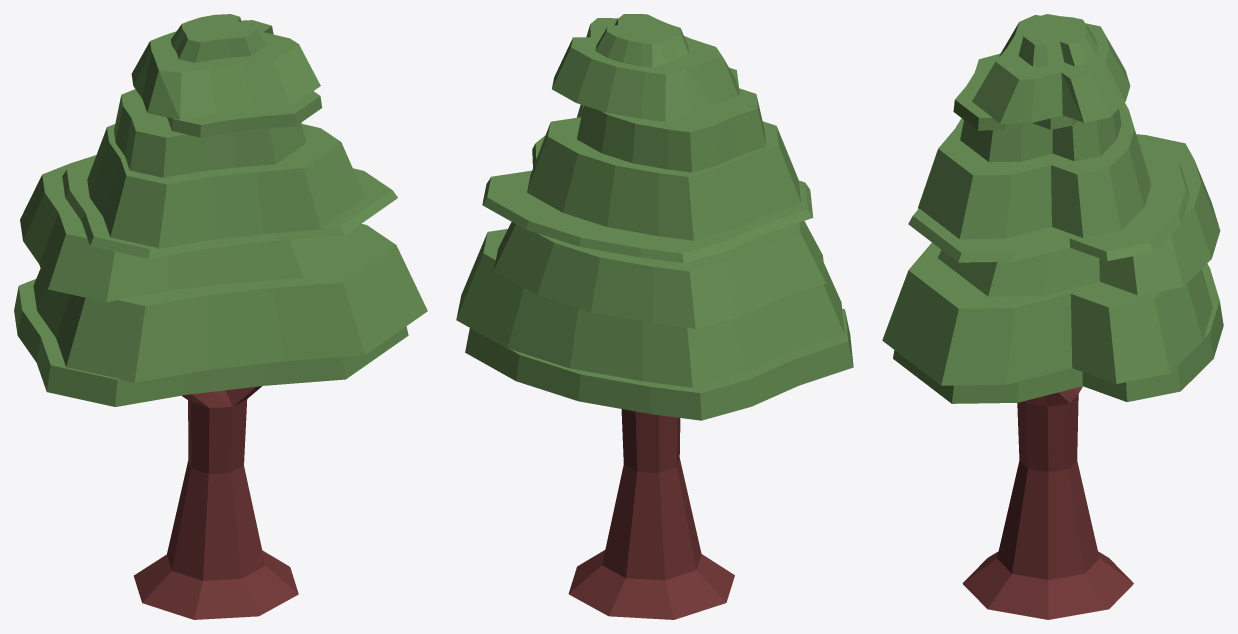
The model's file is tree1.gltf.
The picture shows the model from 3 angles, left to right: view 1: azimuth 30°, elevation 25°; view 2: azimuth 150°, elevation 25°; view 3: azimuth 270°, elevation 25°; orthographic projection.
Bounding box in the file's own units: 15.01 × 23.09 × 12.86.
